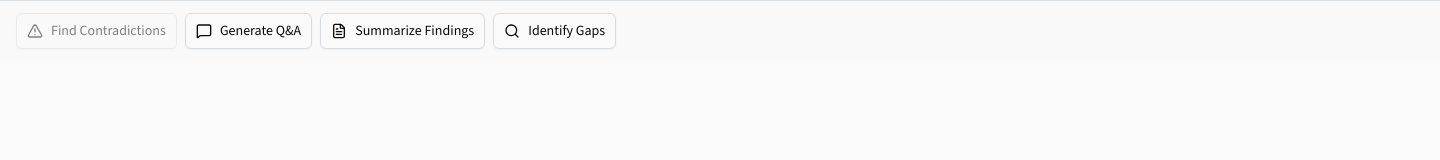
QuickActions › disabled state with reasons (AC: #4) › shows tooltip with reason when button is disabled
Hover over the element with test id "quick-action-find-contradictions" at (96, 31), box [16,13,177,49]
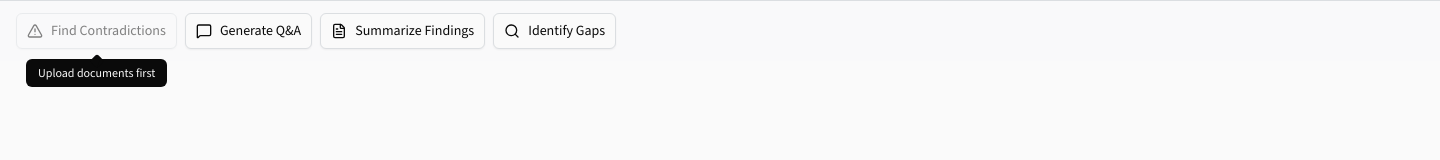
Check: the text "Upload documents first" is shown, box [38,65,155,81]
